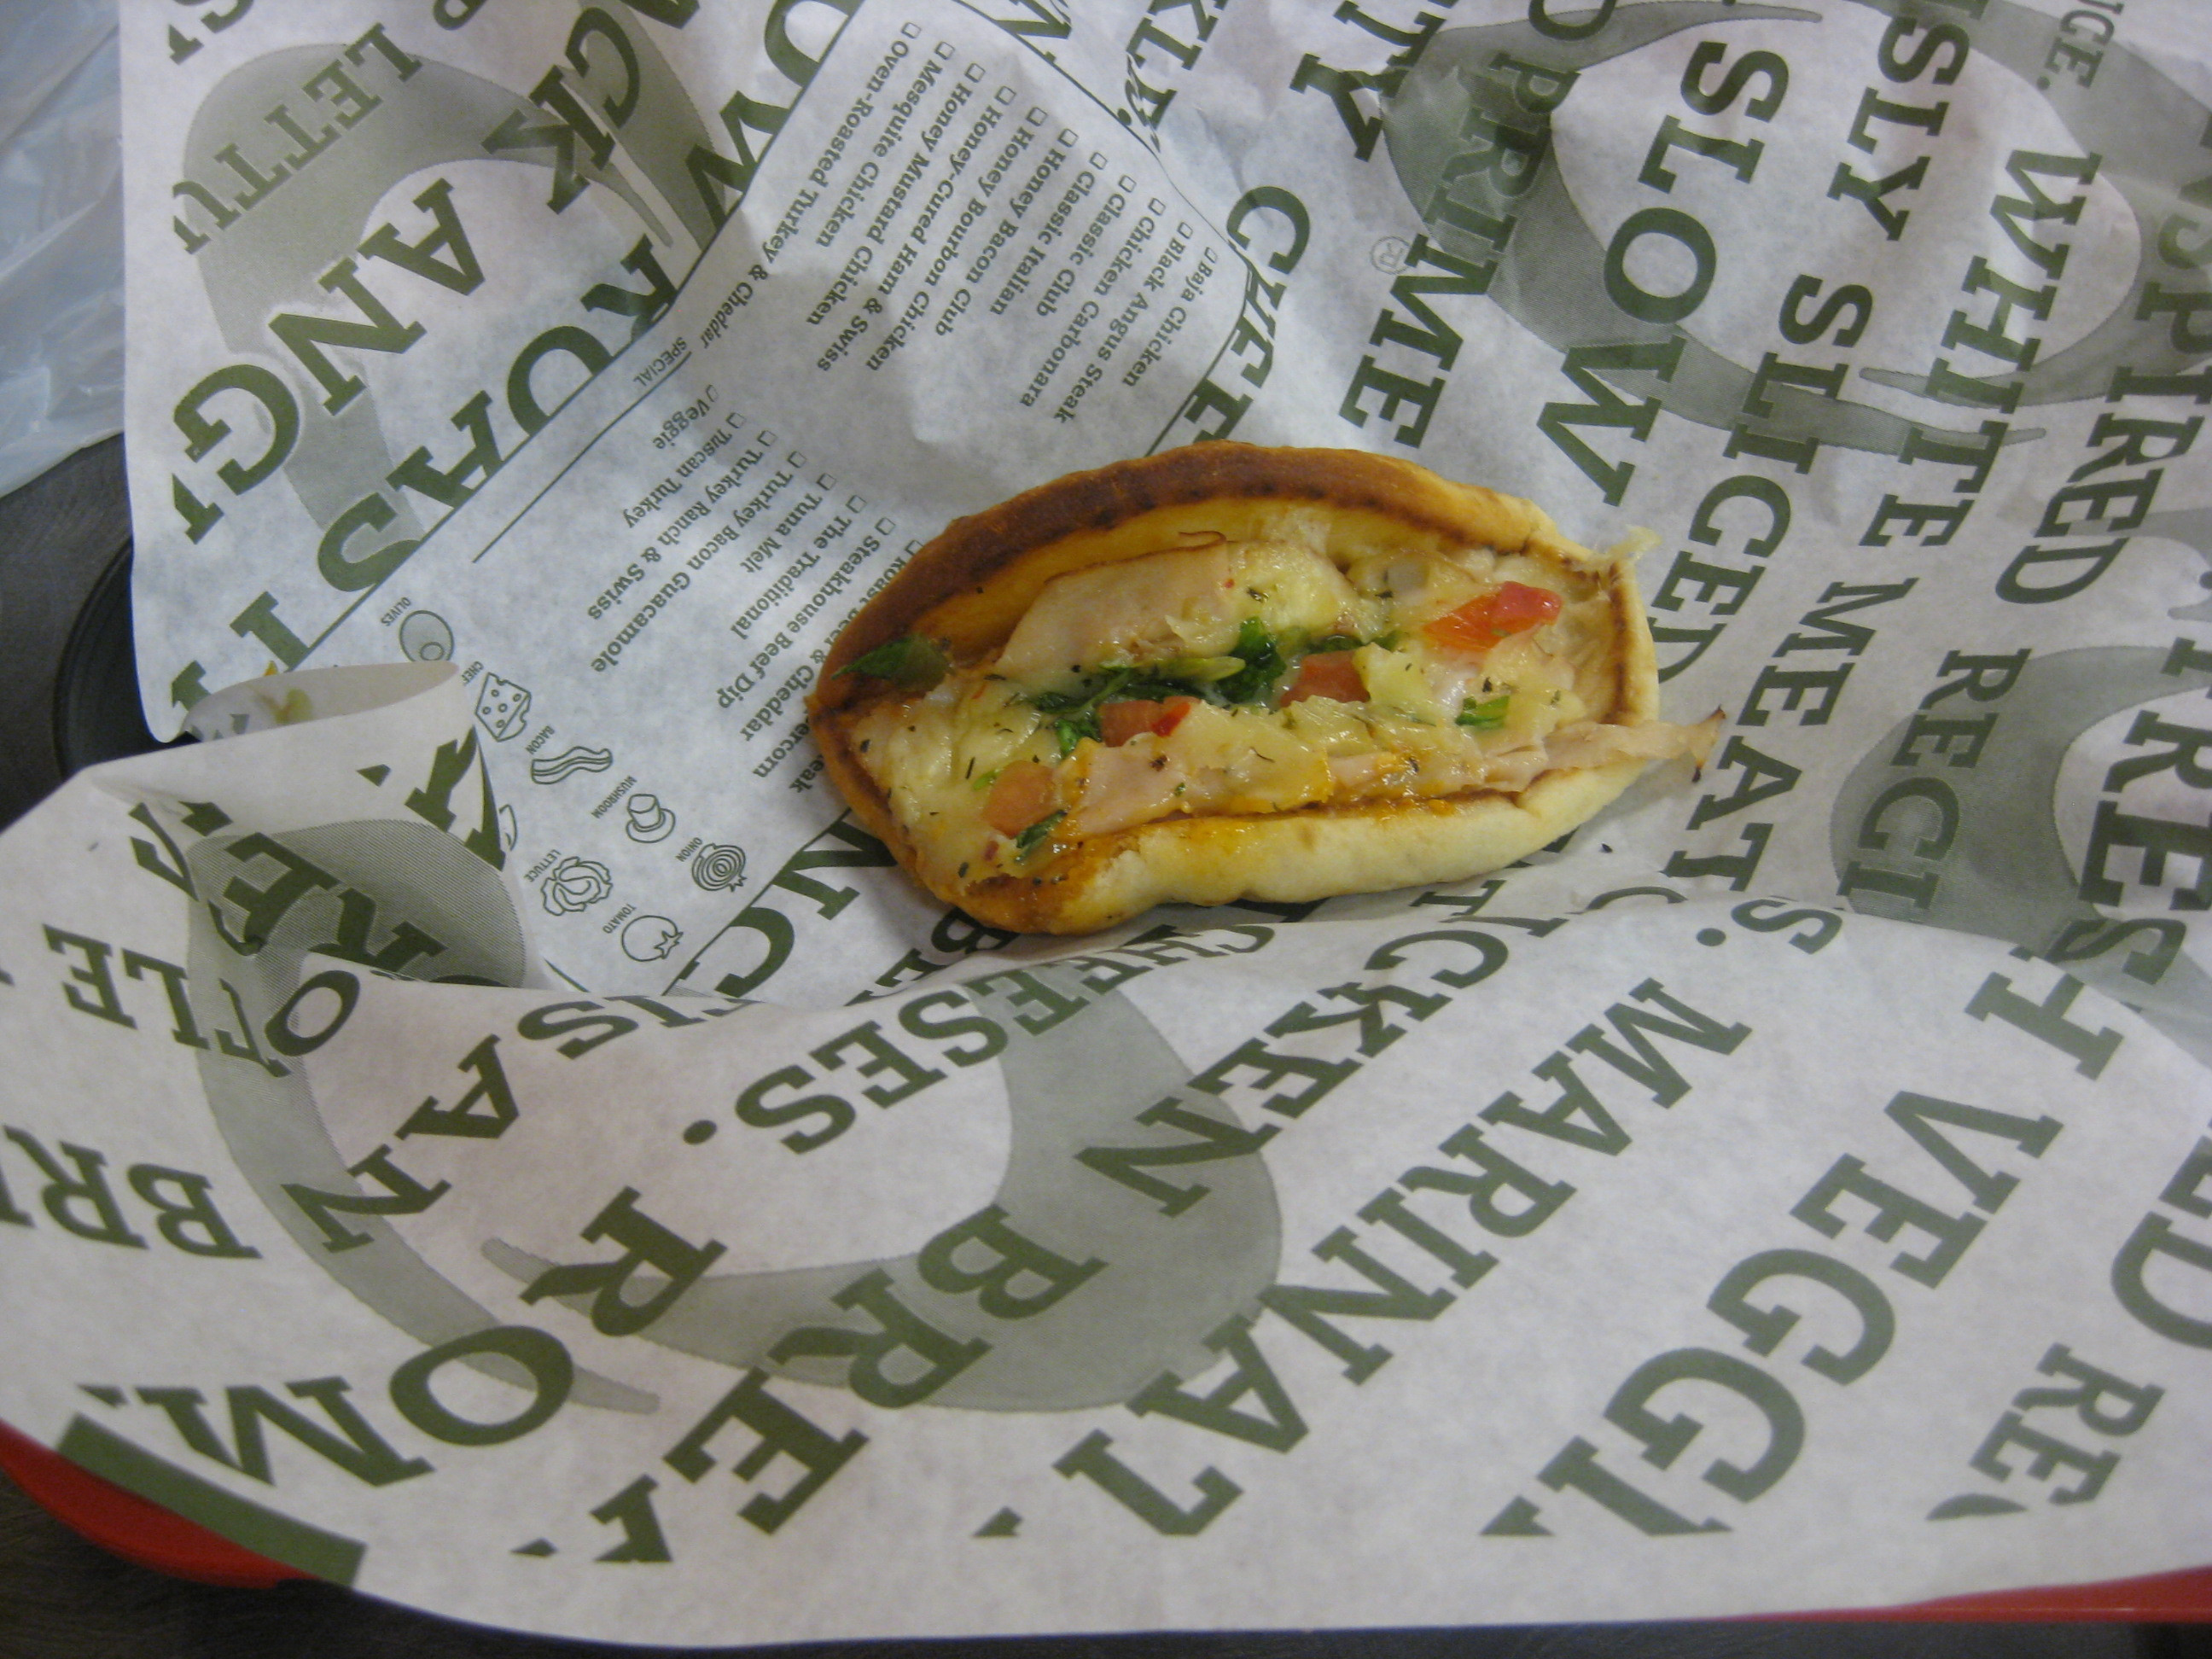taco: (723, 434, 1787, 915)
